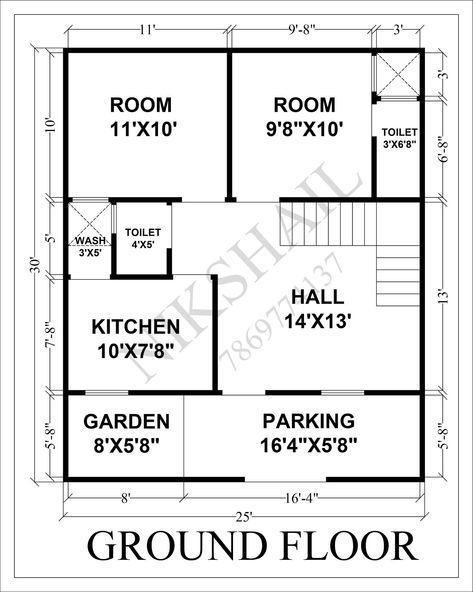room: (225, 202, 431, 396), (63, 391, 432, 485), (64, 198, 221, 395), (230, 51, 426, 205), (69, 54, 227, 200), (376, 50, 423, 204), (112, 200, 177, 280)
wall: (59, 46, 77, 485), (414, 44, 432, 482), (52, 39, 429, 58), (218, 45, 249, 202), (61, 468, 244, 489), (130, 377, 227, 407), (277, 189, 426, 208), (207, 272, 225, 396), (324, 471, 424, 491), (109, 188, 186, 209), (365, 381, 429, 406), (262, 384, 324, 404), (367, 135, 383, 200), (105, 266, 174, 281), (106, 232, 123, 282), (162, 247, 176, 282)
window: (72, 189, 110, 213), (83, 385, 135, 400), (379, 89, 419, 108), (321, 387, 366, 402), (109, 205, 125, 237), (368, 54, 380, 94)
